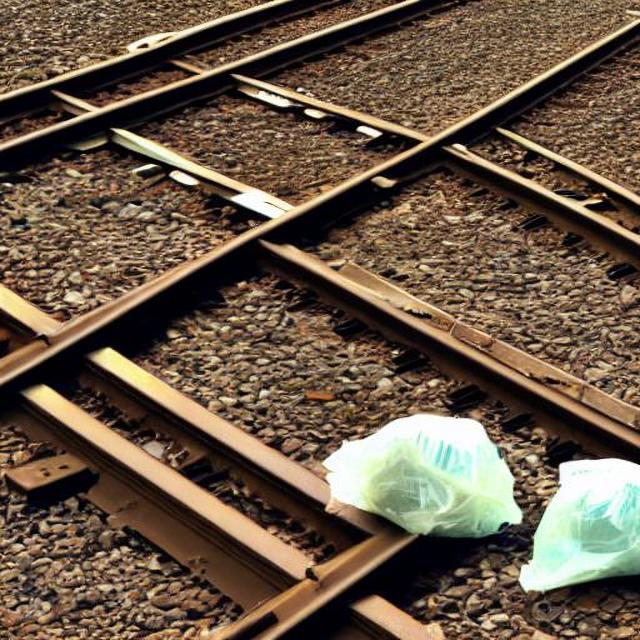plastic bag: (322, 401, 517, 549), (520, 457, 638, 592)
